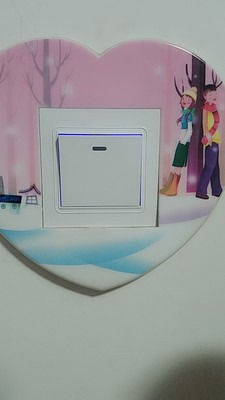switch: (60, 131, 145, 204)
